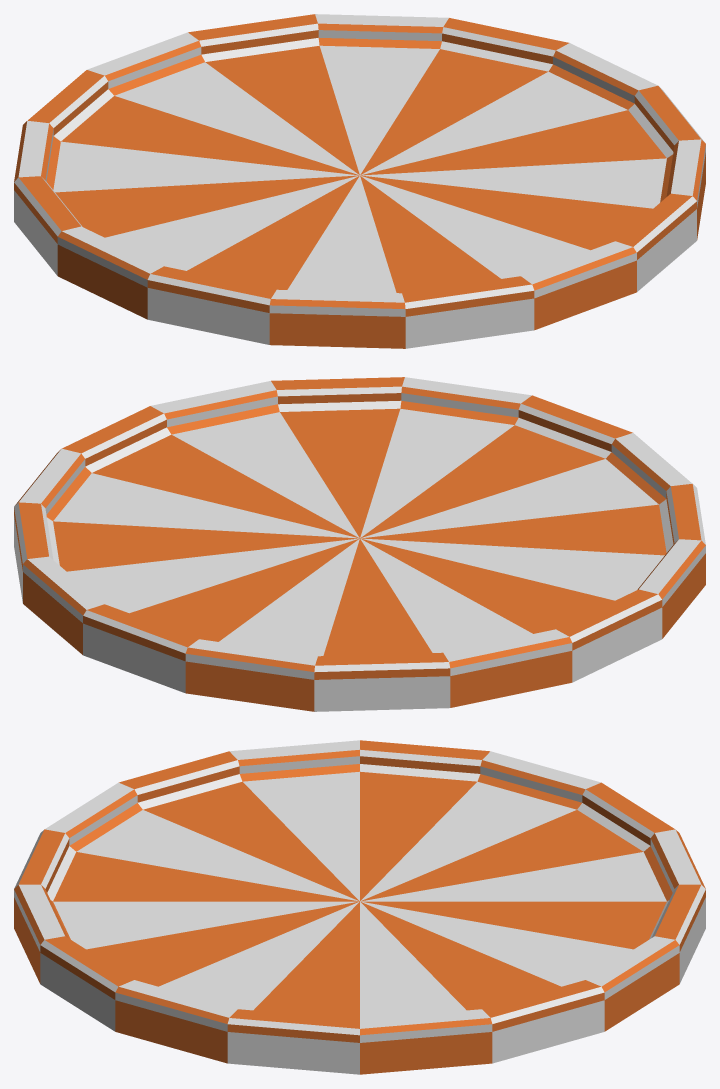
Rendered from Air HockeyPuck.fbx.
The picture shows the model from 3 angles, top to bottom: view 1: azimuth 30°, elevation 25°; view 2: azimuth 150°, elevation 25°; view 3: azimuth 270°, elevation 25°; orthographic projection.
Parts seen in each view (by area): view 1: Cylinder; view 2: Cylinder; view 3: Cylinder.
Boxes of the visible parts, x1,y1,x2,y2 form: Cylinder: [14, 14, 705, 348]; Cylinder: [14, 377, 705, 711]; Cylinder: [14, 740, 705, 1074].
Bounding box in the file's own units: 792 × 55.42 × 792.
